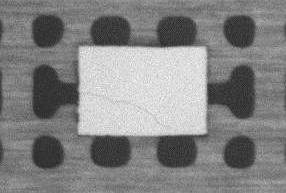DIE_CRACK: (86, 94, 173, 127)
